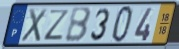0: (110, 5, 134, 44)
3: (90, 7, 111, 42)
4: (132, 6, 153, 43)
B: (64, 6, 92, 44)
X: (19, 7, 48, 43)
Z: (43, 9, 71, 42)
